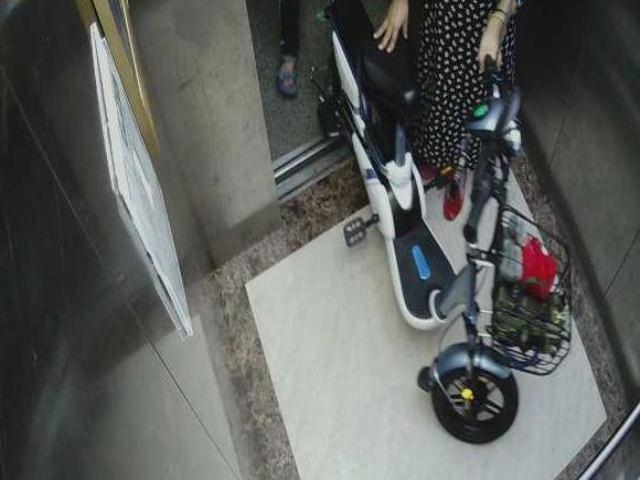emotor: (328, 19, 544, 448)
